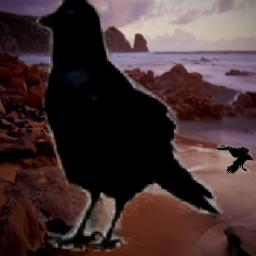Crow: (31, 0, 224, 252), (216, 145, 253, 173)
